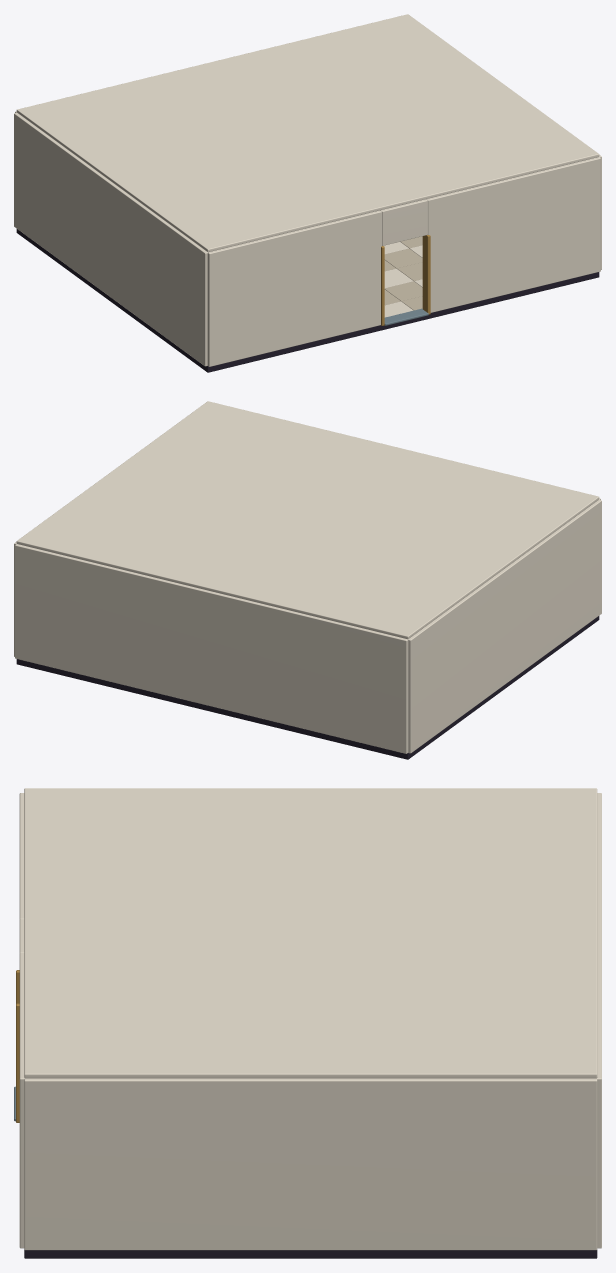
File: hotel_rest_lounge.glb
The picture shows the model from 3 angles, top to bottom: view 1: azimuth 30°, elevation 25°; view 2: azimuth 150°, elevation 25°; view 3: azimuth 270°, elevation 25°; orthographic projection. The views are drawn at different scales.
Visible parts, largest first — view 1: ceiling, structural_wall.010, front_wall.002, front_wall.003, floor.002, front_lintel.001, door_brass_jamb.003, ivory_floor_tile.521, ivory_floor_tile.508; view 2: ceiling, structural_wall.009, structural_wall.010, floor.002; view 3: ceiling, structural_wall.011, floor.002, structural_wall.009, front_wall.003, front_wall.002.
Boxes of the visible parts, x1=… form: ceiling: x1=16, y1=14, x2=599, y2=252; structural_wall.010: x1=14, y1=113, x2=207, y2=366; front_wall.002: x1=207, y1=210, x2=381, y2=366; front_wall.003: x1=426, y1=157, x2=600, y2=312; floor.002: x1=16, y1=229, x2=599, y2=372; front_lintel.001: x1=380, y1=199, x2=427, y2=245; door_brass_jamb.003: x1=422, y1=235, x2=430, y2=314; ivory_floor_tile.521: x1=384, y1=248, x2=422, y2=268; ivory_floor_tile.508: x1=384, y1=281, x2=422, y2=301; ceiling: x1=16, y1=401, x2=599, y2=639; structural_wall.009: x1=15, y1=544, x2=408, y2=753; structural_wall.010: x1=408, y1=500, x2=601, y2=753; floor.002: x1=16, y1=616, x2=599, y2=759; ceiling: x1=24, y1=788, x2=597, y2=1078; structural_wall.011: x1=24, y1=1078, x2=597, y2=1250; floor.002: x1=24, y1=1250, x2=597, y2=1258; structural_wall.009: x1=597, y1=793, x2=601, y2=1248; front_wall.003: x1=19, y1=952, x2=24, y2=1248; front_wall.002: x1=19, y1=793, x2=24, y2=919.
Bounding box in the file's own units: 13.18 × 3.92 × 11.29.
